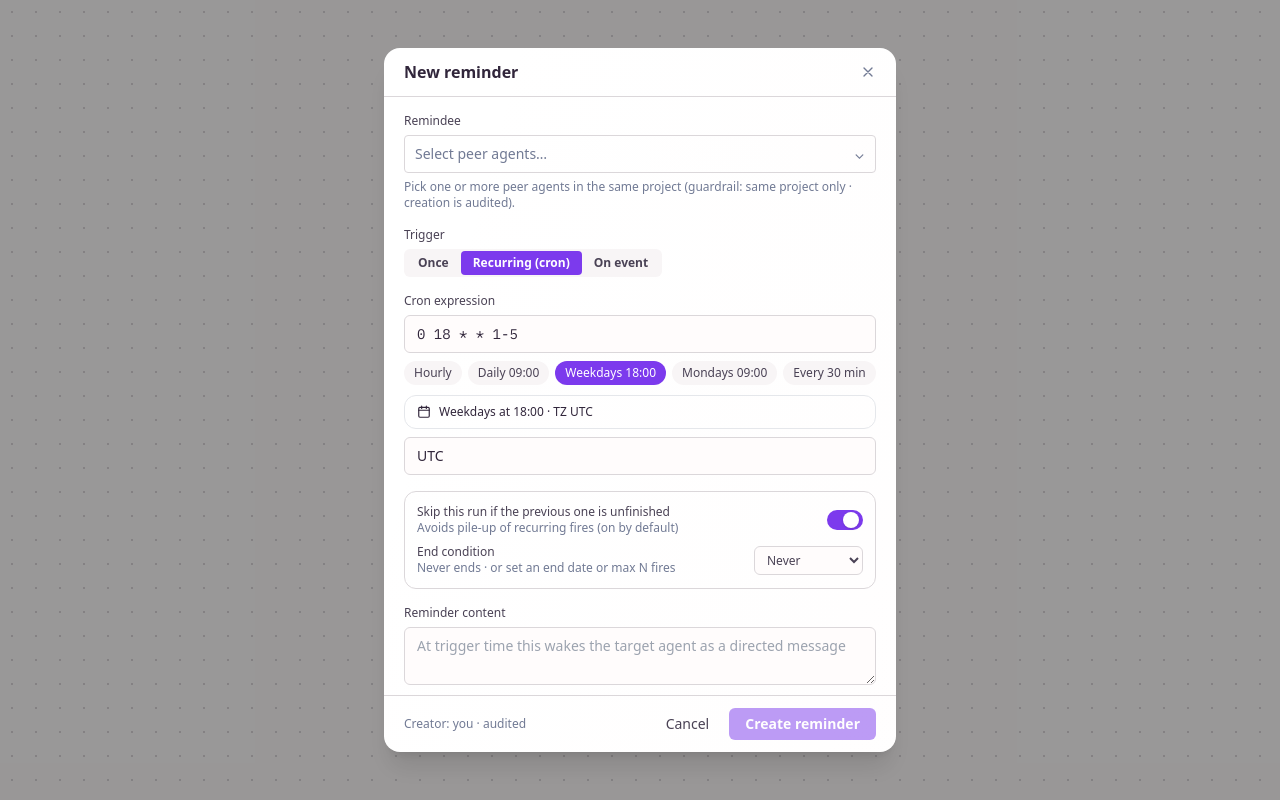
Test: ReminderCreateModal — on_event trigger › re-scopes the event dropdown when entity_type changes (no illegal combo)
Step 1. Click the tab with test id "reminder-kind-on_event" → (621,263), box [582,251,660,275]
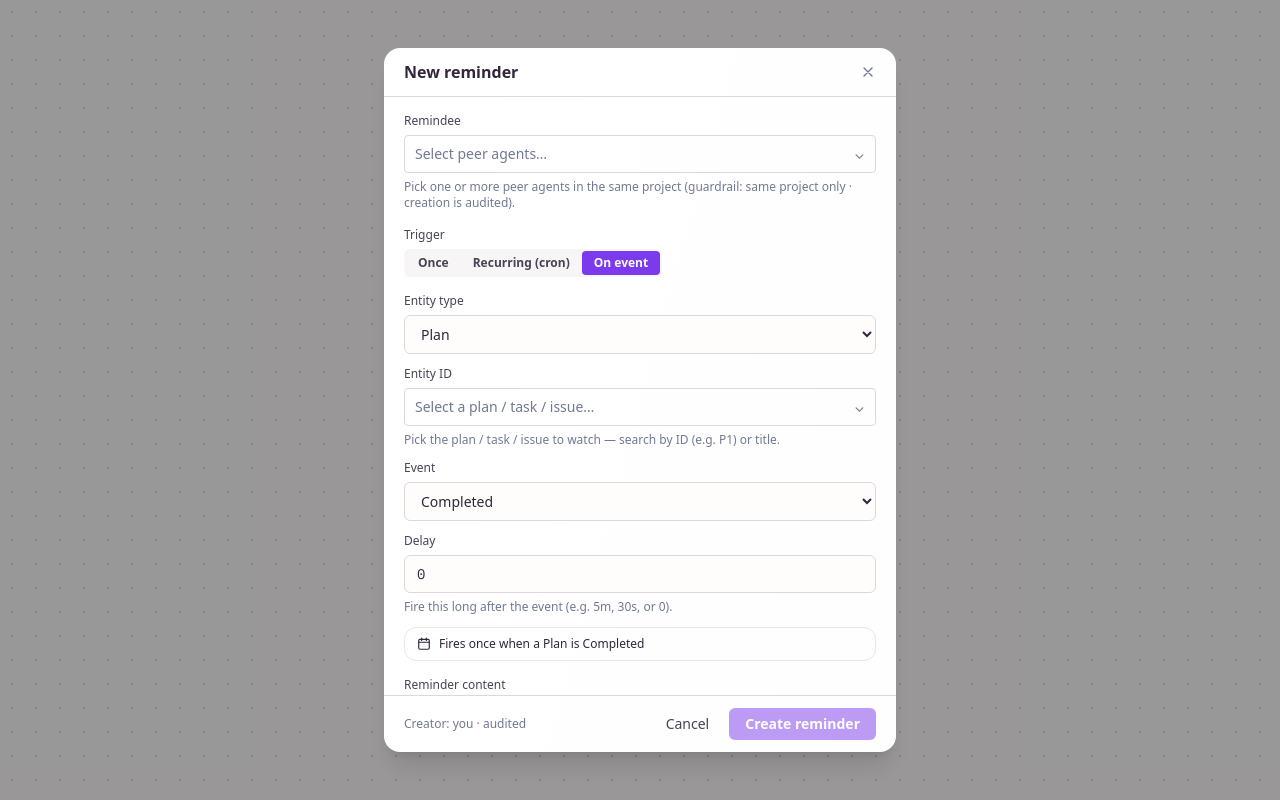
Step 2. Select "Issue" in the dropdown with test id "reminder-entity-type" → (640,334), box [404,315,876,354]
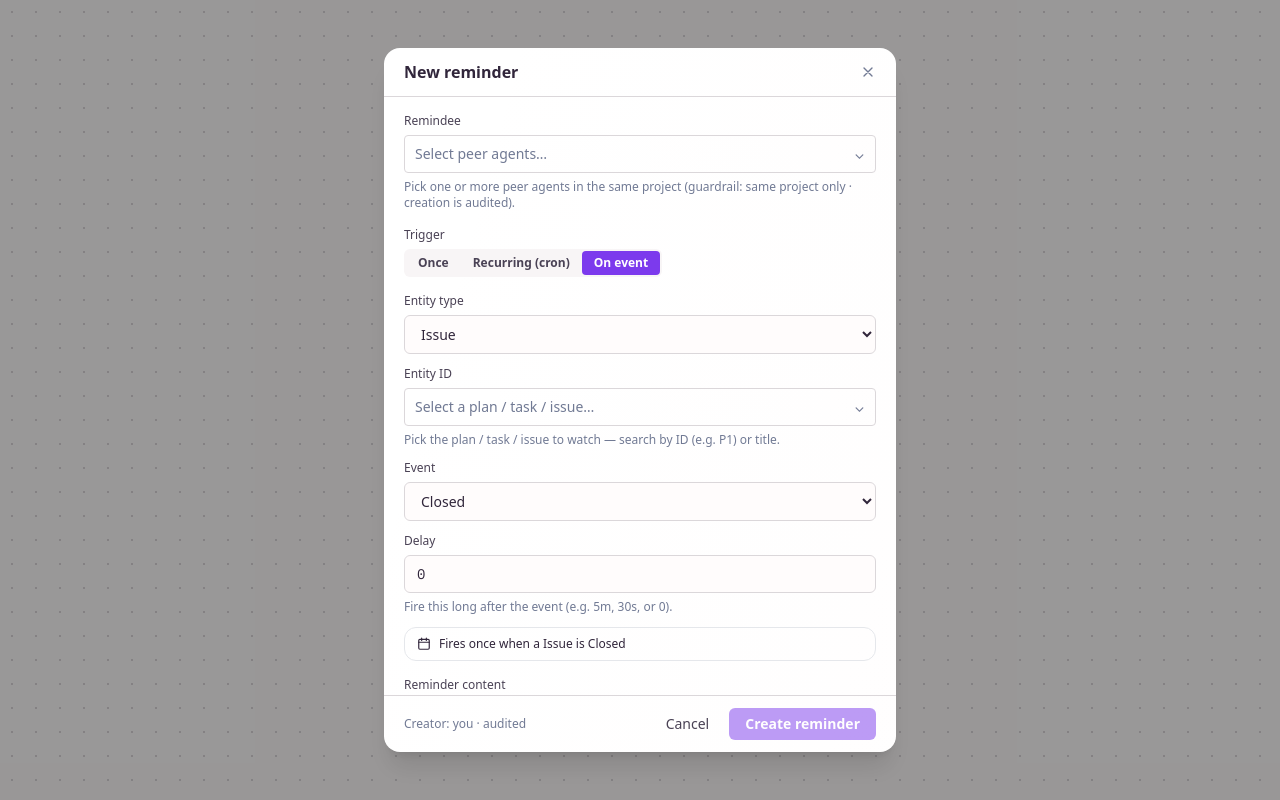
Result: the dropdown with test id "reminder-event" shows "Closed" at [404,482,876,521]
